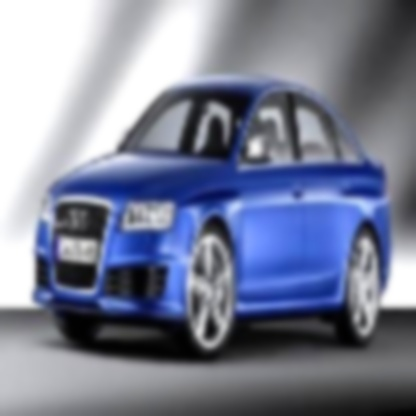Vehicle: (30, 75, 394, 360)
